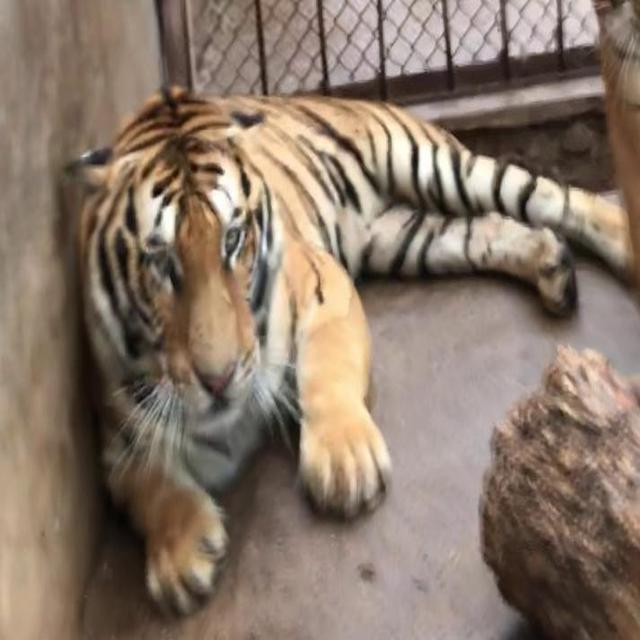tiger: (62, 81, 636, 618)
